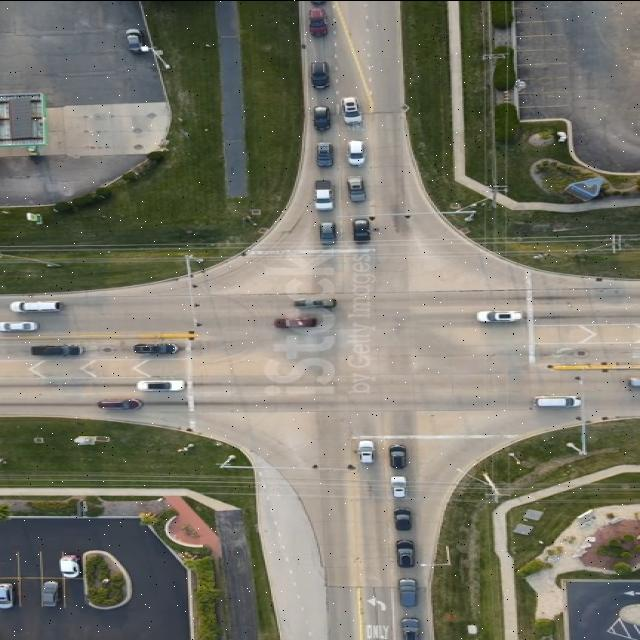car: (32, 344, 84, 356), (13, 300, 62, 312), (138, 379, 186, 391), (535, 394, 583, 406), (398, 578, 418, 606), (312, 61, 332, 89), (396, 538, 416, 566), (308, 8, 328, 36), (400, 544, 420, 572), (126, 28, 148, 52), (344, 96, 364, 122), (403, 616, 424, 640), (479, 310, 524, 321), (135, 343, 179, 354), (353, 218, 373, 242), (60, 554, 80, 576), (98, 398, 142, 408), (275, 316, 319, 326), (313, 105, 332, 128), (348, 139, 366, 163), (349, 176, 367, 200), (317, 141, 335, 165), (396, 504, 414, 528), (320, 221, 338, 244), (358, 440, 376, 463), (390, 446, 408, 468), (0, 320, 38, 330), (0, 582, 15, 607)
pickup-truck: (40, 579, 60, 607)
